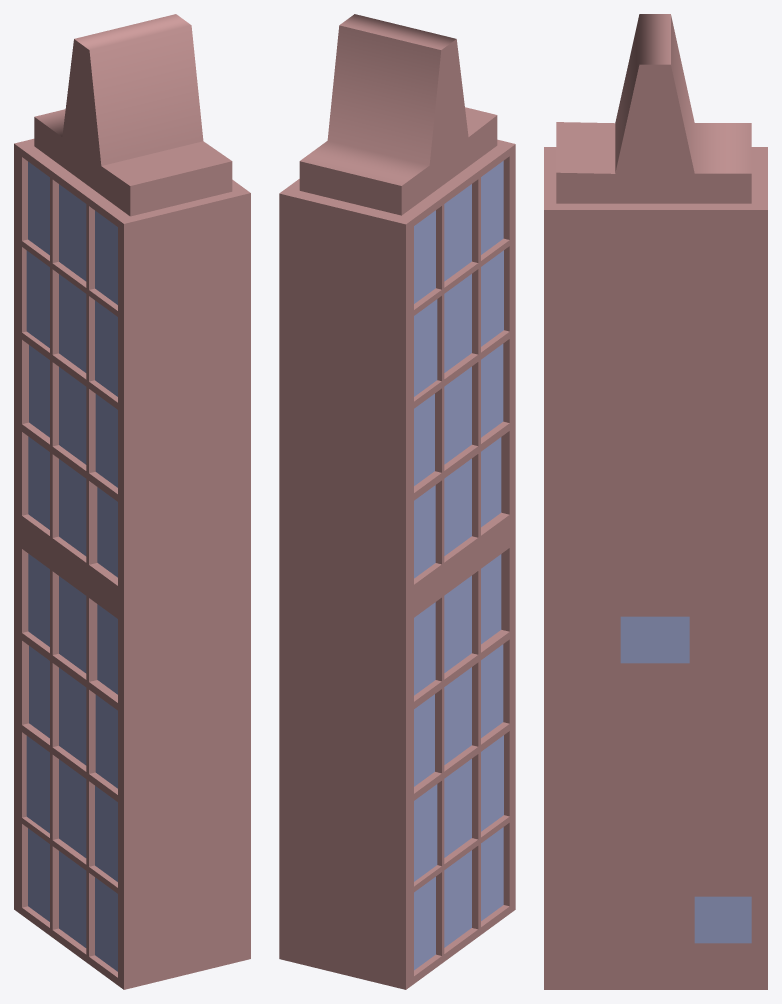
Rendered from Building_2_deco.fbx.
3 views of the same model, side by side, from view 1: azimuth 30°, elevation 25°; view 2: azimuth 150°, elevation 25°; view 3: azimuth 270°, elevation 25° (orthographic).
Parts seen in each view (by area): view 1: building2; view 2: building2; view 3: building2.
Boxes of the visible parts, x1,y1,x2,y2 form: building2: (14, 14, 250, 989); building2: (279, 14, 515, 989); building2: (544, 14, 767, 989).
Bounding box in the file's own units: 2.63 × 17.86 × 3.94.
